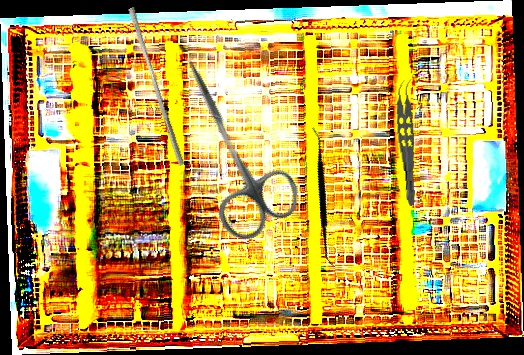Iris Scissors: (147, 39, 310, 248)
Pusher: (122, 6, 191, 167)
Spatula Surgical: (258, 126, 389, 269)
Tissue Forceps: (391, 78, 427, 207)
